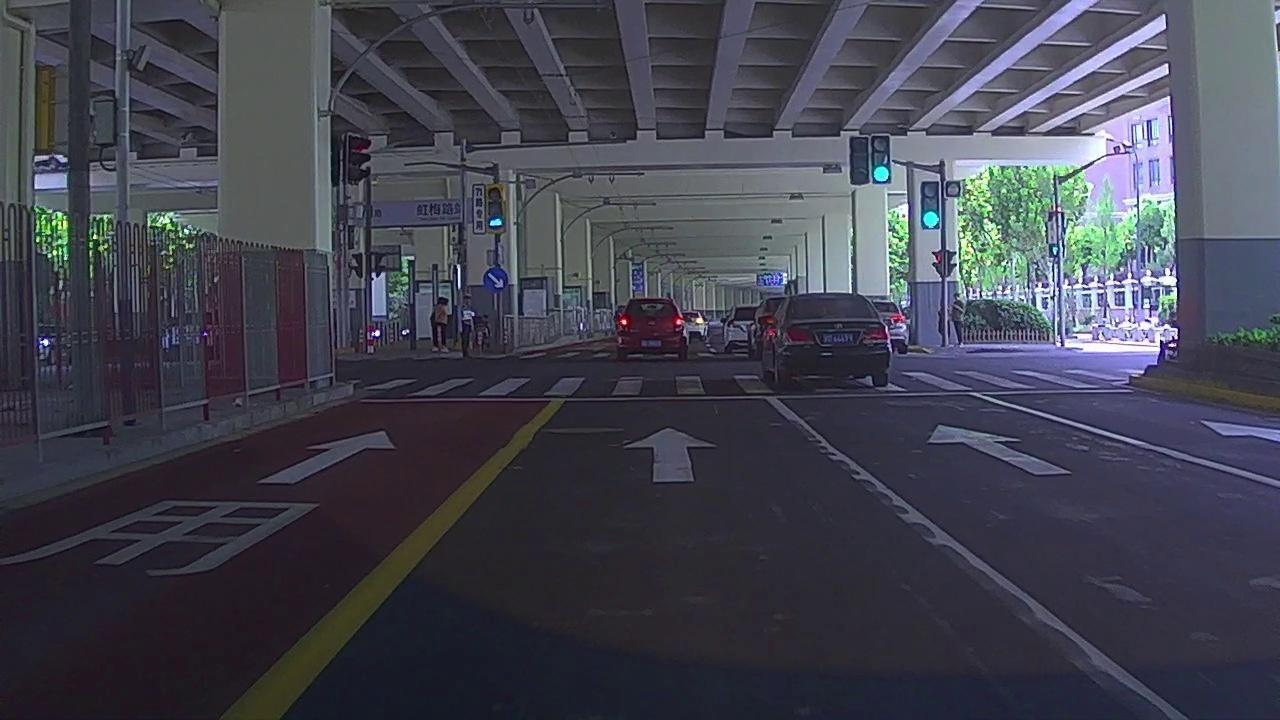traffic_light: (849, 137, 870, 185), (920, 181, 940, 231), (872, 134, 891, 185)
